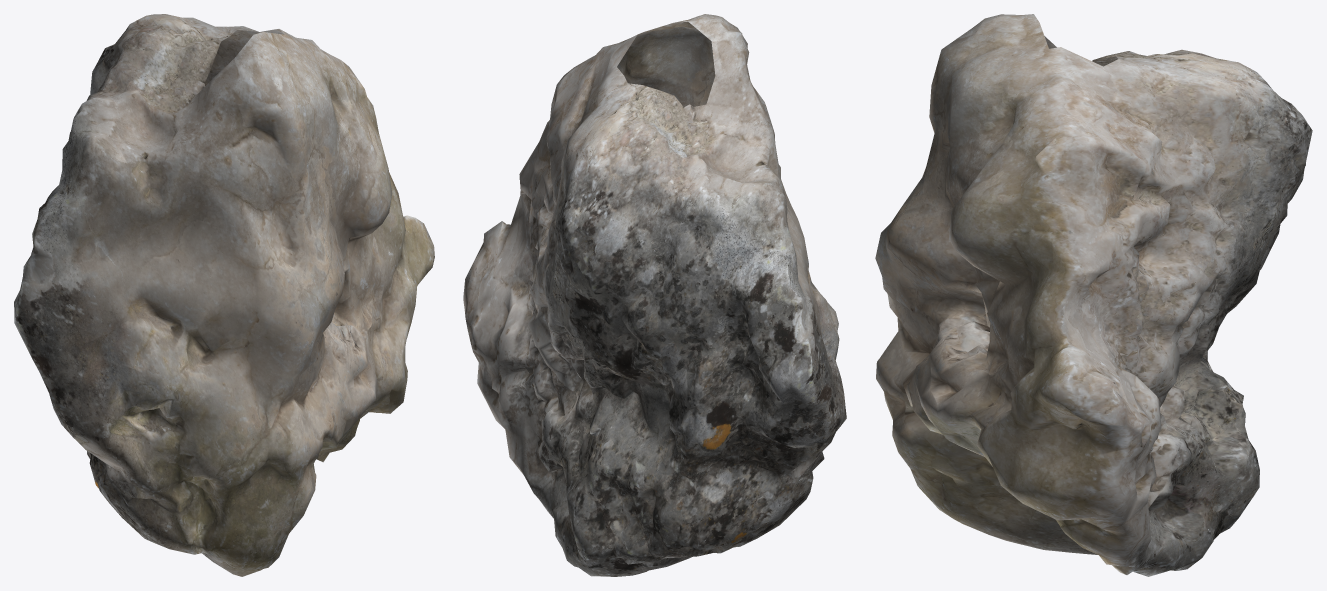
The model's file is Rock_Simo01.fbx.
3 renders of one model, left to right at view 1: azimuth 30°, elevation 25°; view 2: azimuth 150°, elevation 25°; view 3: azimuth 270°, elevation 25°, orthographic. The views are drawn at different scales.
Parts seen in each view (by area): view 1: Rock; view 2: Rock; view 3: Rock.
Part boxes in pixels (x1=…): Rock: x1=14, y1=14, x2=434, y2=576; Rock: x1=463, y1=14, x2=846, y2=576; Rock: x1=875, y1=14, x2=1312, y2=576.
Size of the model in its own units: 15000 by 20000 by 14500.
